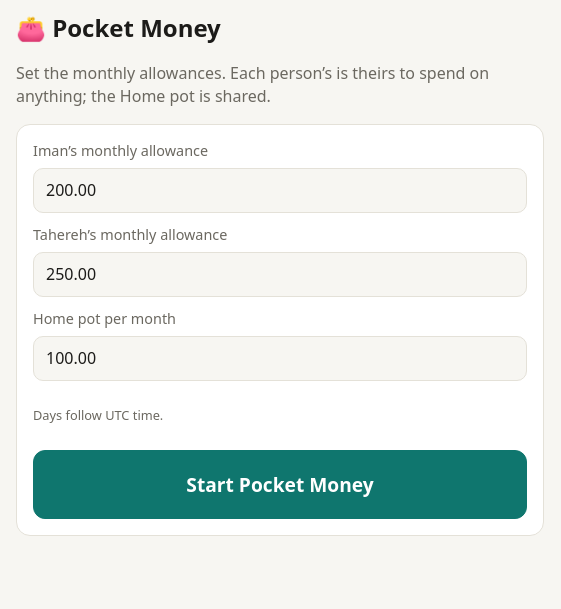
any other rejection shows the connection message
Click the button "Start Pocket Money".
click(280, 484)  # box [33,450,527,519]
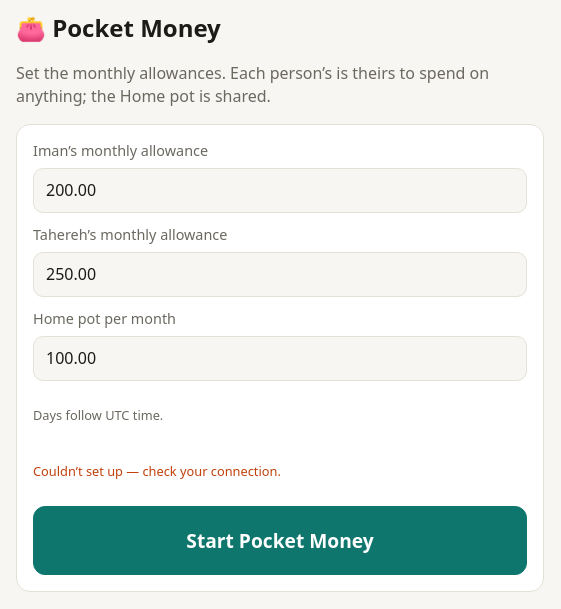
Now the message reads "Couldn’t set up — check your connection.", box [33,462,281,480]
